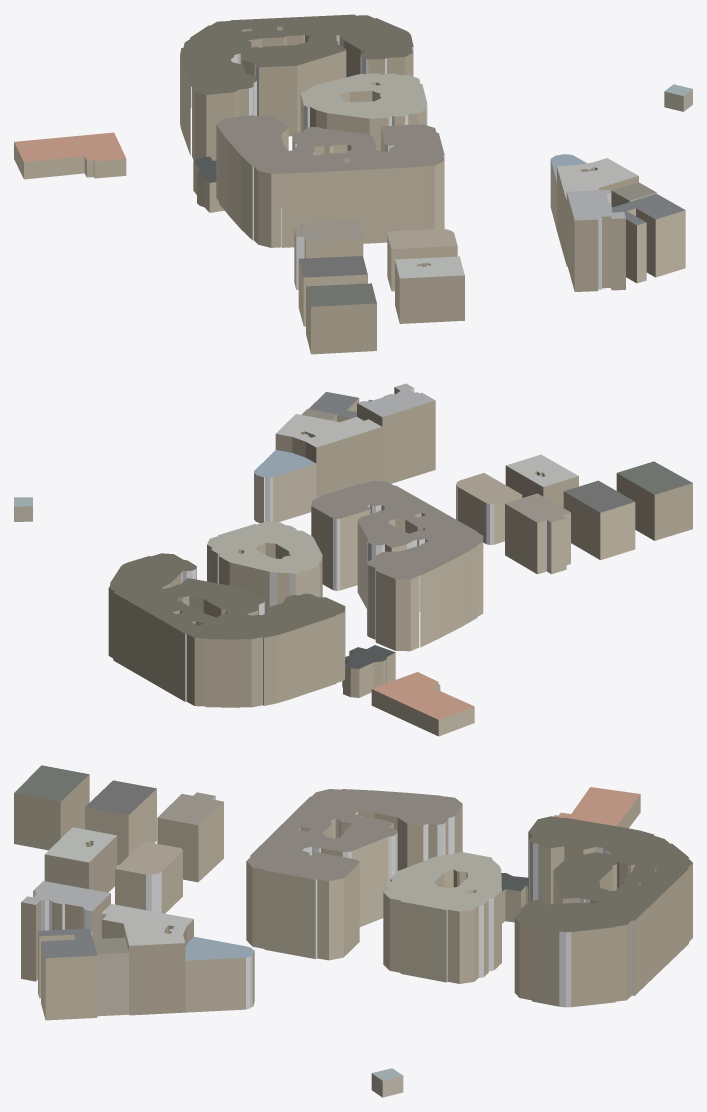
The picture shows the model from 3 angles, top to bottom: view 1: azimuth 30°, elevation 25°; view 2: azimuth 150°, elevation 25°; view 3: azimuth 270°, elevation 25°; orthographic projection. The views are drawn at different scales.
Visible parts, largest first — view 1: tuile; view 2: tuile; view 3: tuile.
Part boxes in pixels (x1,y1,x2,y2): tuile: [14, 14, 692, 354]; tuile: [14, 383, 692, 736]; tuile: [14, 765, 692, 1097].
Size of the model in its own units: 233 by 39.49 by 223.
